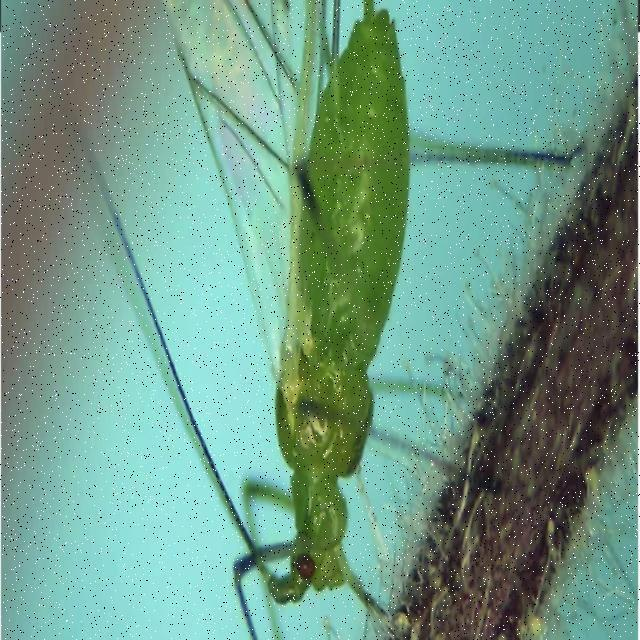Aphids: (153, 7, 464, 621)
